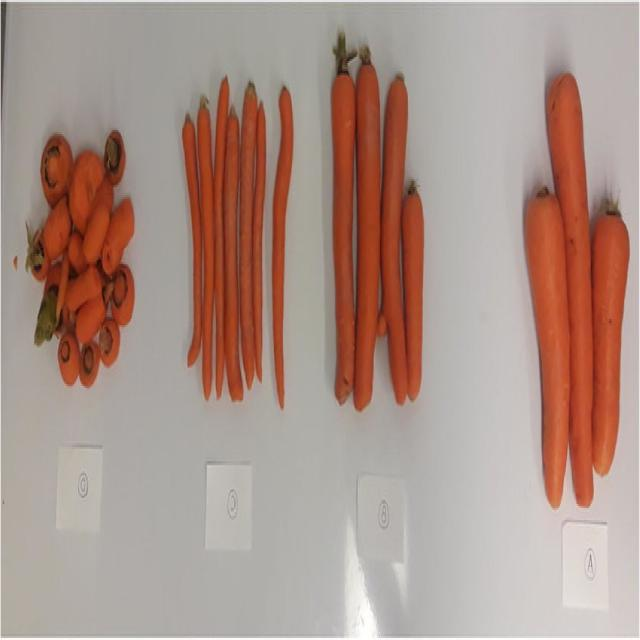organic: (544, 71, 594, 512), (524, 182, 570, 508), (591, 185, 631, 480), (353, 41, 381, 415), (330, 26, 357, 412), (379, 71, 408, 406), (221, 108, 244, 401), (273, 90, 294, 409), (237, 81, 257, 388), (213, 67, 231, 400), (181, 112, 203, 368), (401, 176, 424, 401), (197, 97, 213, 401), (255, 100, 267, 385), (68, 146, 105, 233), (102, 196, 136, 278), (40, 130, 72, 207), (66, 261, 101, 317), (110, 260, 135, 330), (104, 128, 127, 188), (25, 228, 48, 283), (58, 329, 80, 386), (98, 316, 121, 370), (80, 336, 98, 389)
